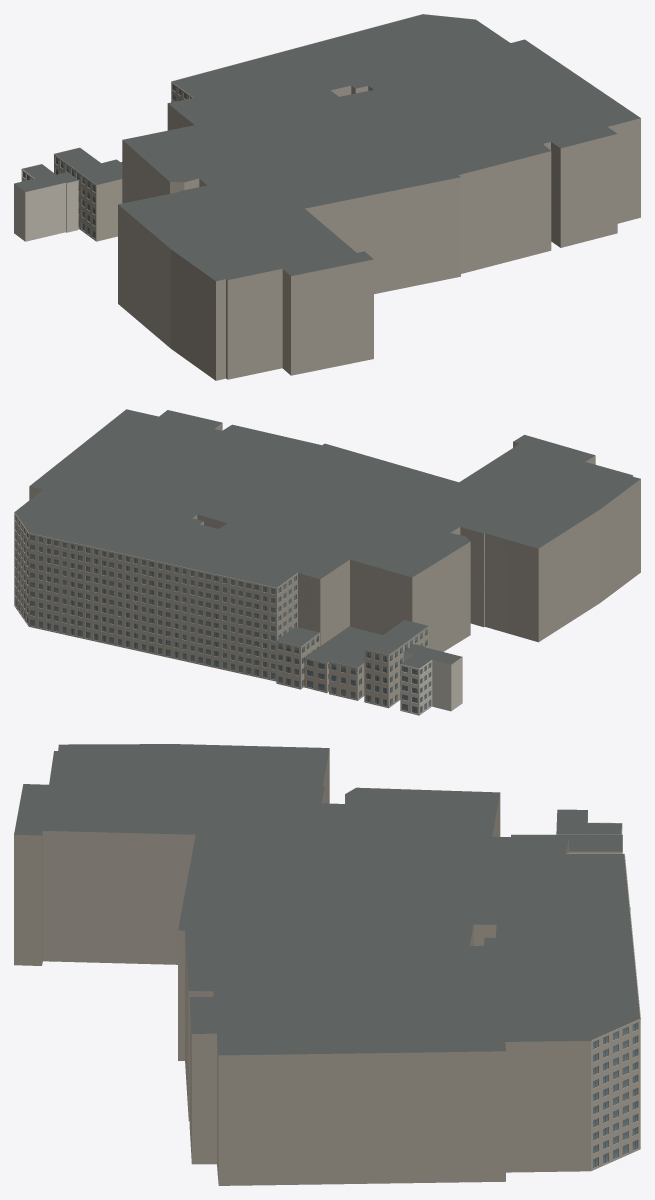
File: near.gltf
3 renders of one model, top to bottom at view 1: azimuth 30°, elevation 25°; view 2: azimuth 150°, elevation 25°; view 3: azimuth 270°, elevation 25°, orthographic. The views are drawn at different scales.
Parts seen in each view (by area): view 1: cell-e007-s001_near_roof, cell-e007-s001_near_tile-wall, cell-e007-s001_near_plaster, cell-e007-s001_near_stone, cell-e007-s001_near_glass; view 2: cell-e007-s001_near_roof, cell-e007-s001_near_tile-wall, cell-e007-s001_near_glass, cell-e007-s001_near_stone, cell-e007-s001_near_plaster, cell-e007-s001_near_frame, cell-e007-s001_near_granite; view 3: cell-e007-s001_near_roof, cell-e007-s001_near_tile-wall, cell-e007-s001_near_glass.
Boxes of the visible parts, <box> form: cell-e007-s001_near_roof: <box>14,14,640,281</box>; cell-e007-s001_near_tile-wall: <box>118,14,640,380</box>; cell-e007-s001_near_plaster: <box>14,164,78,241</box>; cell-e007-s001_near_stone: <box>54,155,122,241</box>; cell-e007-s001_near_glass: <box>23,85,190,238</box>; cell-e007-s001_near_roof: <box>14,409,640,668</box>; cell-e007-s001_near_tile-wall: <box>14,423,640,681</box>; cell-e007-s001_near_glass: <box>15,516,430,713</box>; cell-e007-s001_near_stone: <box>276,627,428,708</box>; cell-e007-s001_near_plaster: <box>400,652,462,715</box>; cell-e007-s001_near_frame: <box>24,533,430,713</box>; cell-e007-s001_near_granite: <box>276,626,428,706</box>; cell-e007-s001_near_roof: <box>14,744,640,1055</box>; cell-e007-s001_near_tile-wall: <box>14,749,640,1185</box>; cell-e007-s001_near_glass: <box>593,1022,637,1167</box>.
Bounding box in the file's own units: 162 × 31.65 × 138.
7 materials, 5 textured.
